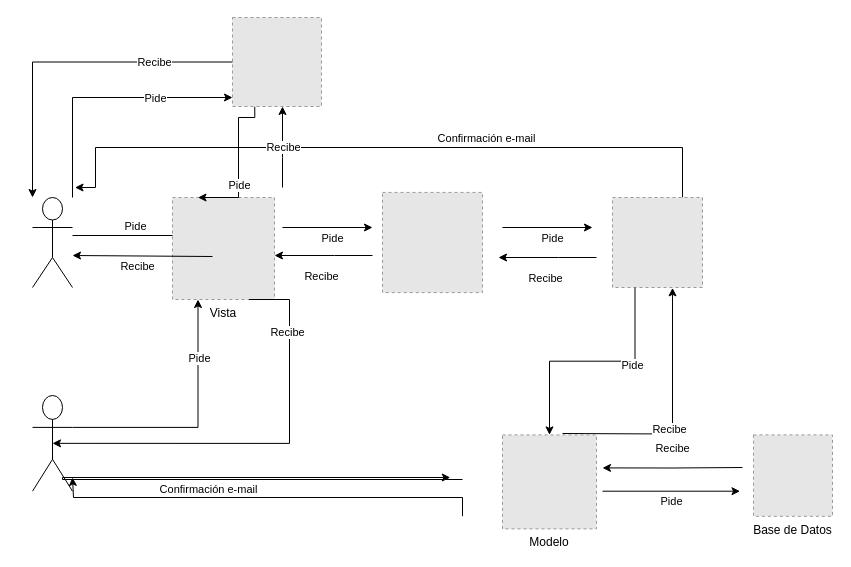
The diagram is 851 pixels wide and 567 high, and some of its shapes have lost their labels. Grey dashed boxes stand in for pictures. Each missing label, with the centre of its shape:
Estudiante: (x=52, y=242)
Laboratorista: (x=52, y=442)
